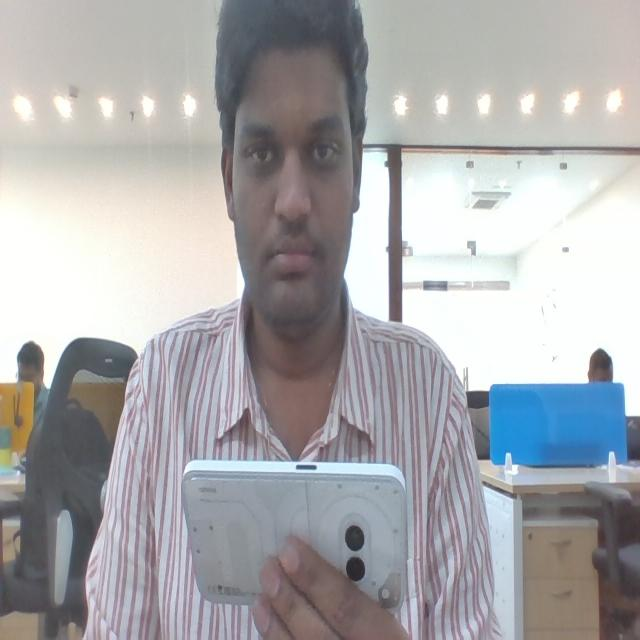phone: (180, 460, 408, 613)
